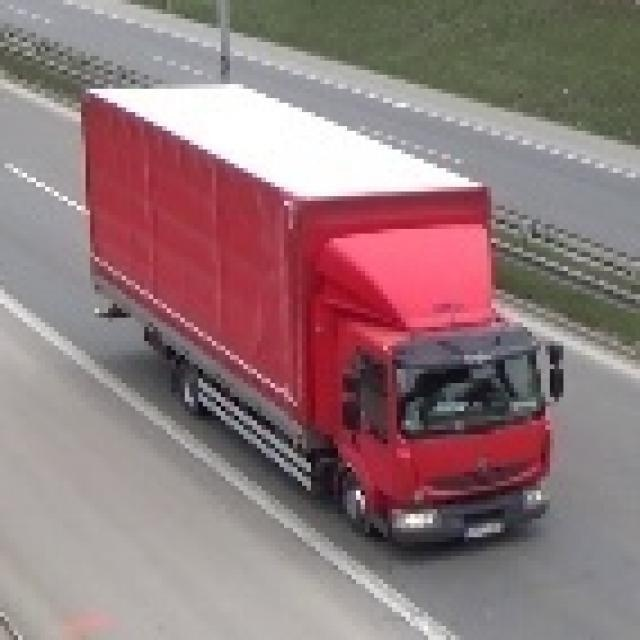Truck: (90, 80, 568, 546)
